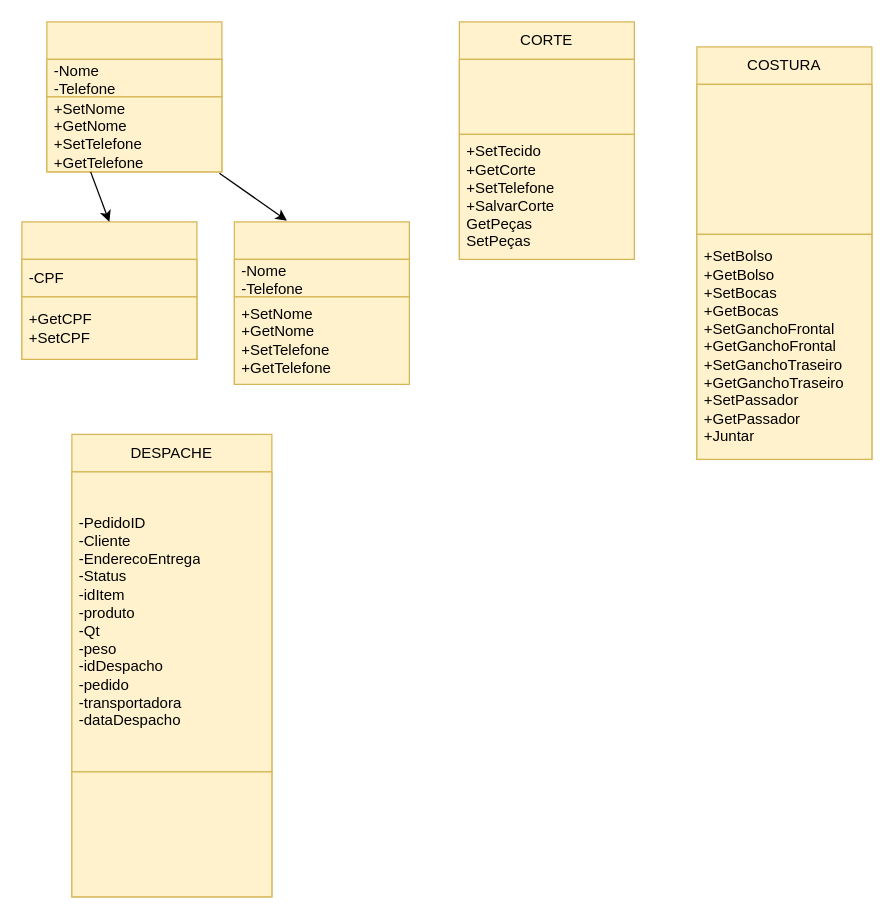
Some shapes in this 894 by 919 pixel diagram are drawn without their labels. The shapes that lost their labels are listed below. From the top down, each one's box as (x1, y1, x2, y2) in pixels, then its label:
(46, 21, 222, 172): PESSOA
(458, 58, 634, 134): -Corte -Estilo -Tecido -Peças
(696, 83, 872, 234): -Peças -Bolso -Passador -Gancho Frontal -Gancho Traseiro -Bocas
(21, 221, 197, 359): CLIENTE
(233, 221, 409, 384): FORNECEDOR
(71, 771, 272, 897): +ConfimarPedido +GetStatus +despacharPedido +atualizarStatusDespacho
